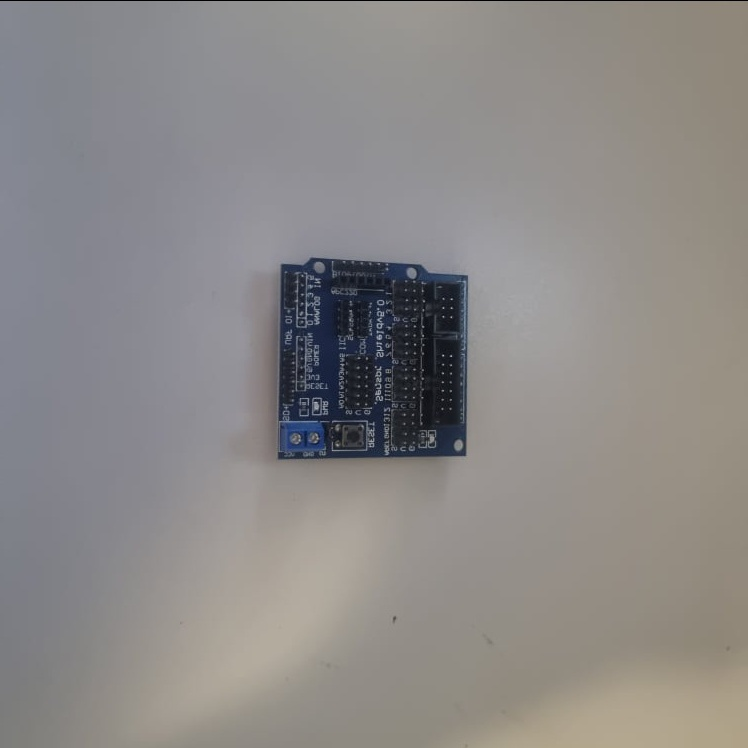5V EXPANSION: (275, 251, 470, 458)
